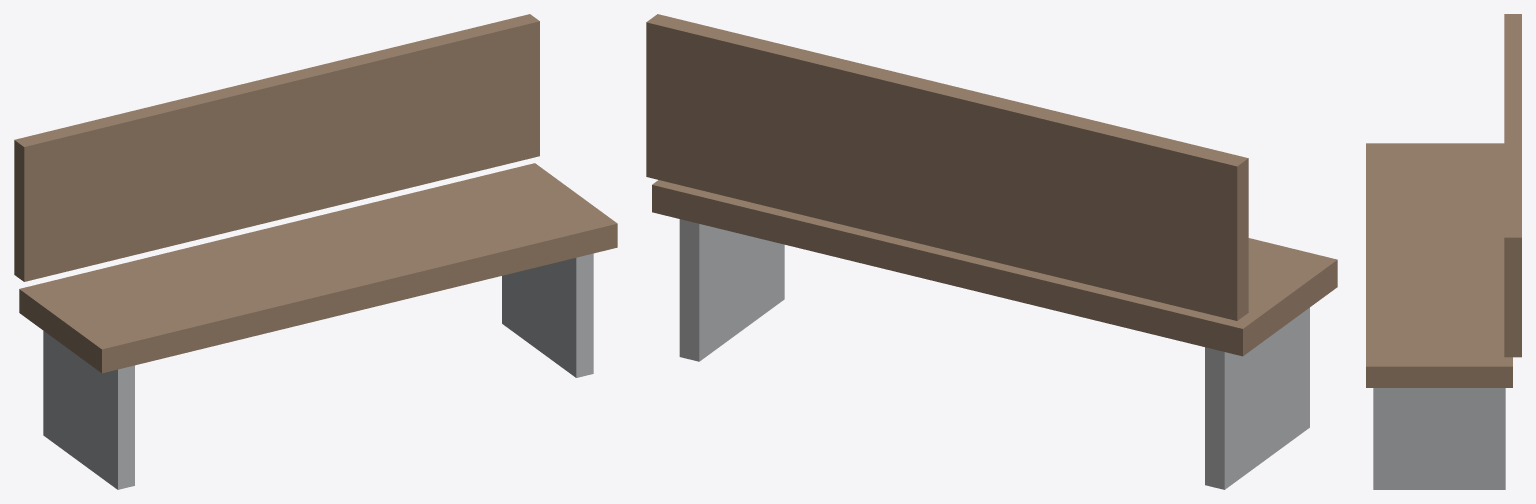
Rendered from bench.glb.
3 views of the same model, side by side, from view 1: azimuth 30°, elevation 25°; view 2: azimuth 150°, elevation 25°; view 3: azimuth 270°, elevation 25° (orthographic). The views are drawn at different scales.
Parts seen in each view (by area): view 1: wood, metal; view 2: wood, metal; view 3: wood, metal.
Part boxes in pixels (x1=…): wood: x1=14, y1=14, x2=617, y2=373; metal: x1=43, y1=253, x2=593, y2=489; wood: x1=646, y1=14, x2=1337, y2=356; metal: x1=679, y1=219, x2=1309, y2=489; wood: x1=1366, y1=14, x2=1521, y2=387; metal: x1=1373, y1=388, x2=1505, y2=489.
Bounding box in the file's own units: 1.8 × 0.98 × 0.53.
